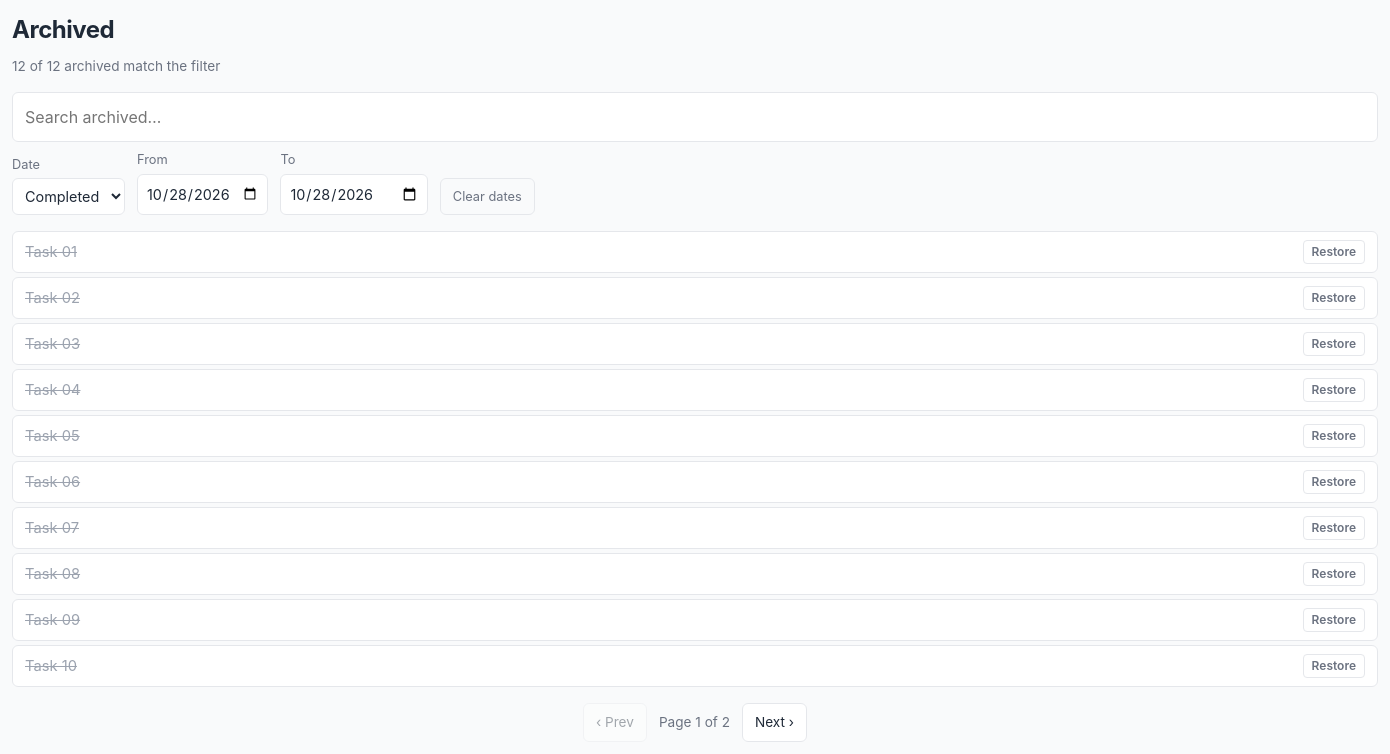
ArchivedView — search + pagination (#92) › advances to the next page
This screenshot has width=1390, height=754.
Click the button with aria-label "next page" at {"x": 774, "y": 722}, box [742, 703, 807, 742]
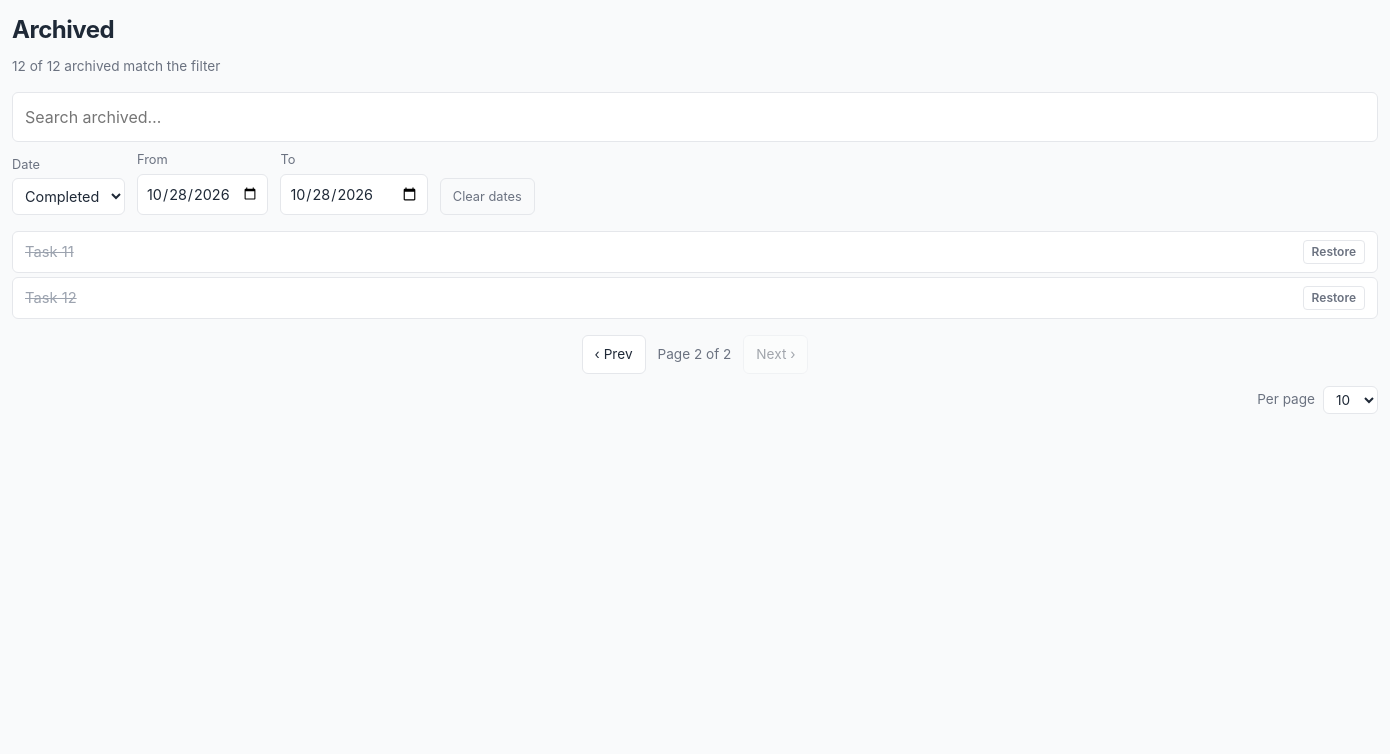
Expected: the text "Page 2 of 2" is shown, [658, 344, 731, 365]
